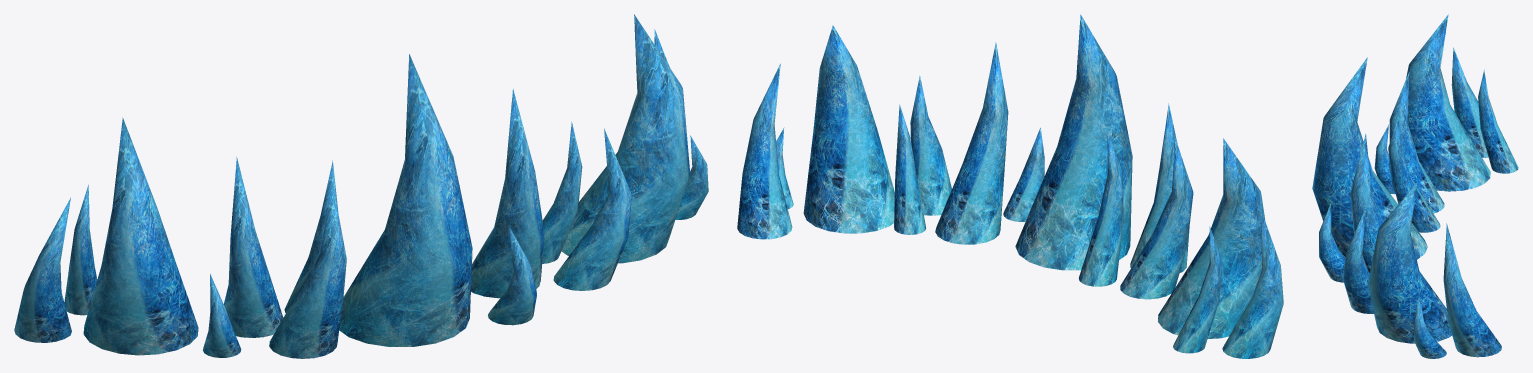
Rendered from IceWall.FBX.
The picture shows the model from 3 angles, left to right: view 1: azimuth 30°, elevation 25°; view 2: azimuth 150°, elevation 25°; view 3: azimuth 270°, elevation 25°; orthographic projection. The views are drawn at different scales.
Parts seen in each view (by area): view 1: Ice; view 2: Ice; view 3: Ice.
Part boxes in pixels (left/top/right/bottom): Ice: left=14, top=14, right=708, bottom=358; Ice: left=737, top=14, right=1283, bottom=358; Ice: left=1312, top=14, right=1518, bottom=358.
Size of the model in its own units: 298 by 119 by 117.
